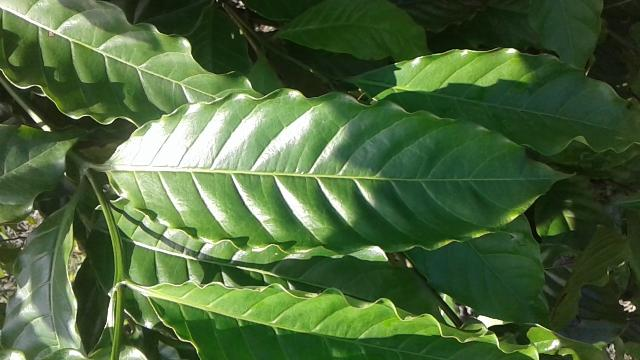healthy: (106, 88, 590, 258)
